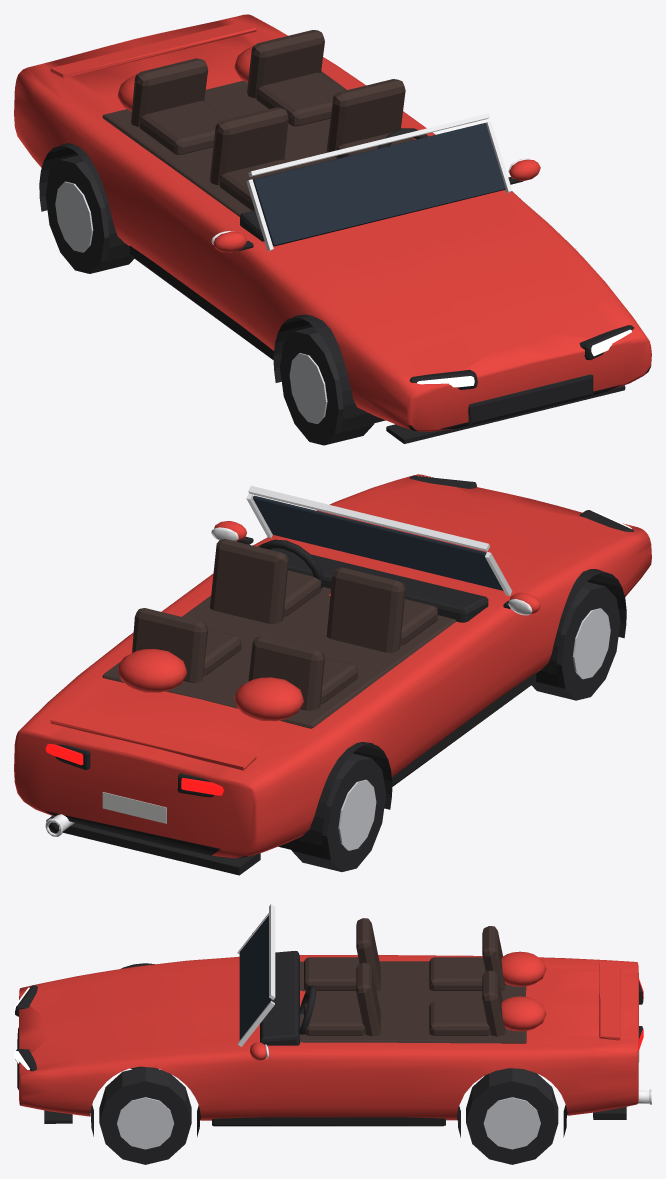
Rendered from zephyra_lod.glb.
3 renders of one model, top to bottom at view 1: azimuth 30°, elevation 25°; view 2: azimuth 150°, elevation 25°; view 3: azimuth 270°, elevation 25°, orthographic. The views are drawn at different scales.
Parts seen in each view (by area): view 1: body, wheel_fr, wheel_rr; view 2: body, wheel_rr, wheel_fr; view 3: body, wheel_fl, wheel_rl.
Boxes of the visible parts, x1,y1,x2,y2 form: body: (14, 14, 651, 443); wheel_fr: (280, 326, 374, 445); wheel_rr: (45, 155, 134, 273); body: (14, 474, 651, 875); wheel_rr: (291, 753, 386, 871); wheel_fr: (531, 582, 620, 700); body: (14, 904, 651, 1137); wheel_fl: (99, 1067, 191, 1164); wheel_rl: (466, 1068, 558, 1164).
Bounding box in the file's own units: 2.23 × 1.35 × 4.84.
